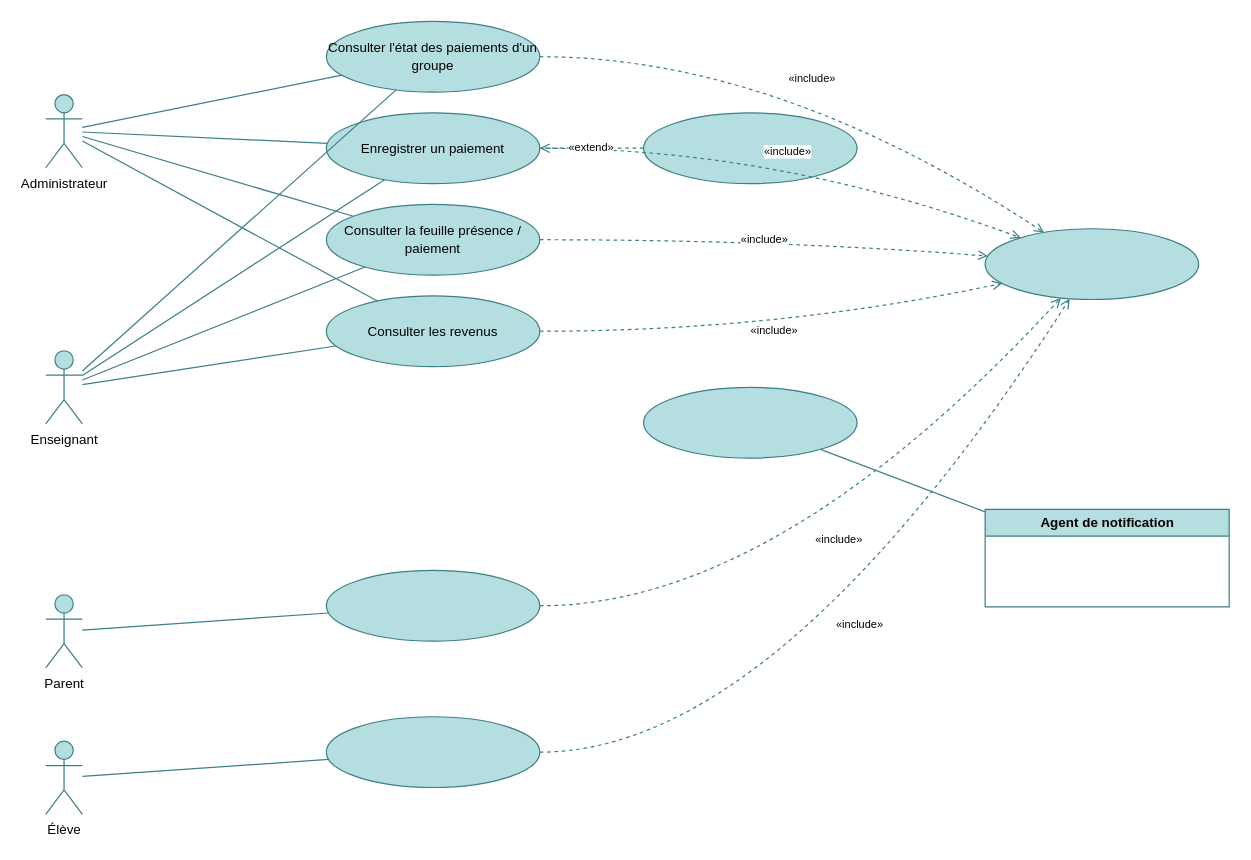
Some shapes in this 1251 by 860 pixel diagram are drawn without their labels. Each missing label, with the centre of its shape:
Annuler le dernier paiement: [749,148]
Consulter ses paiements: [432,752]
Envoyer les rappels de paiement: [749,422]
S'authentifier: [1091,264]
Suivre son enfant: [432,605]
